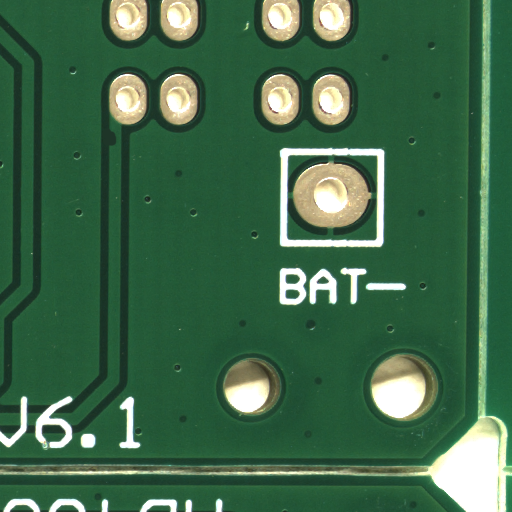Mouse_bite: (112, 138, 121, 155)
